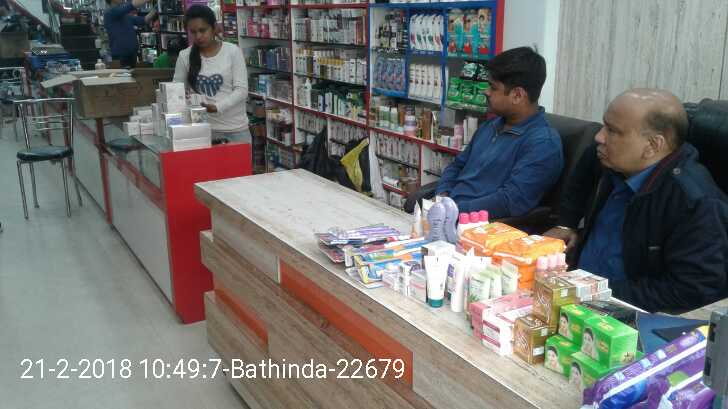venus: (390, 60, 399, 93), (374, 56, 382, 91), (382, 60, 390, 91), (399, 59, 406, 93)
